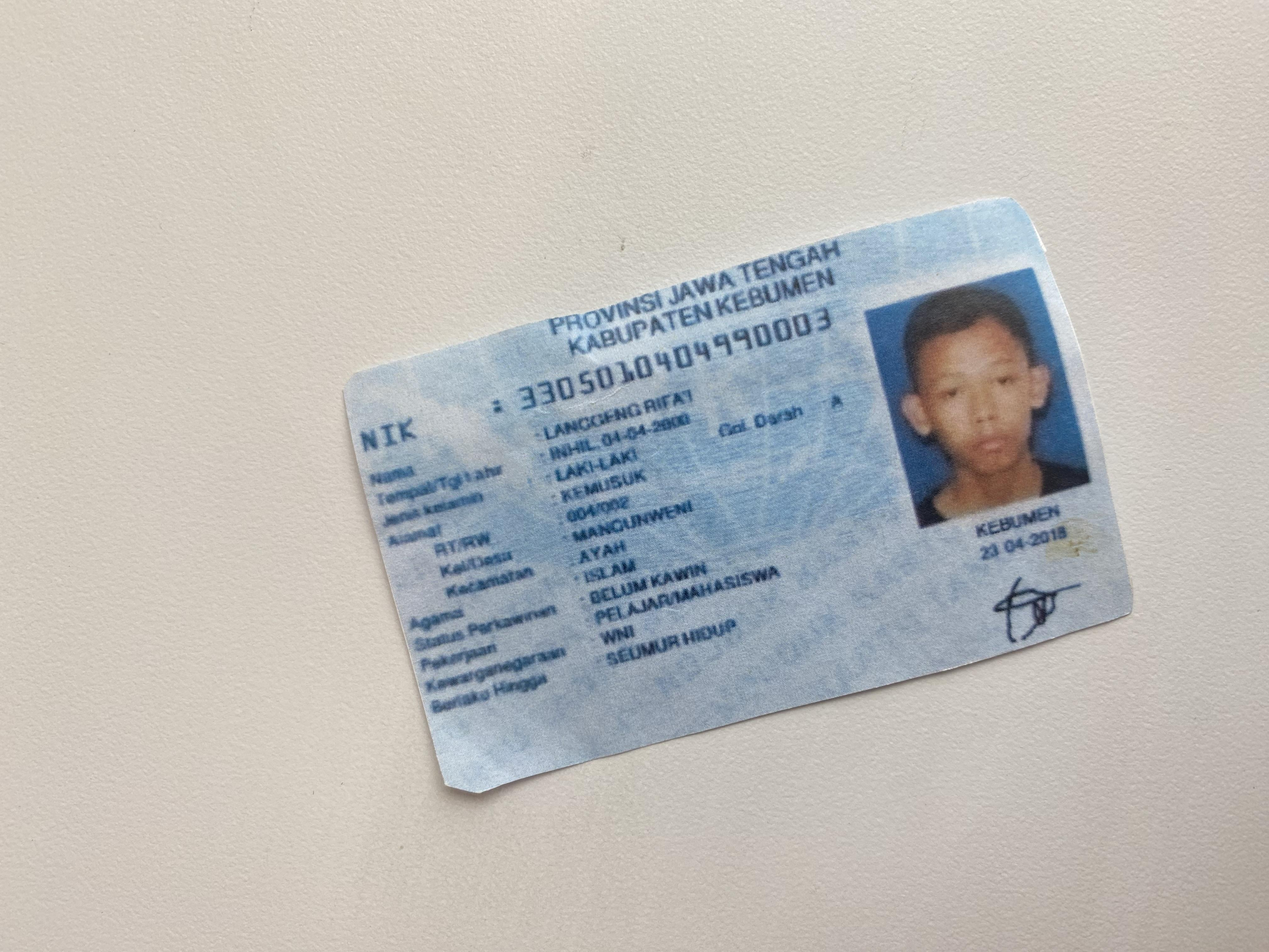ID-card: (191, 248, 1015, 855)
